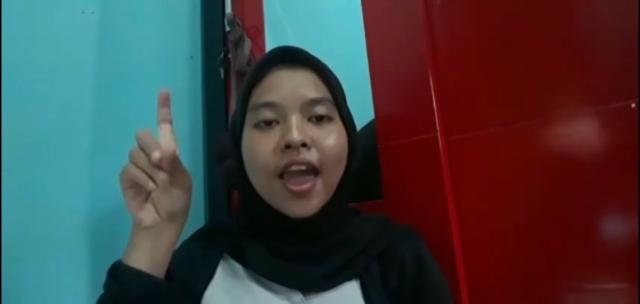X: (118, 87, 198, 231)
